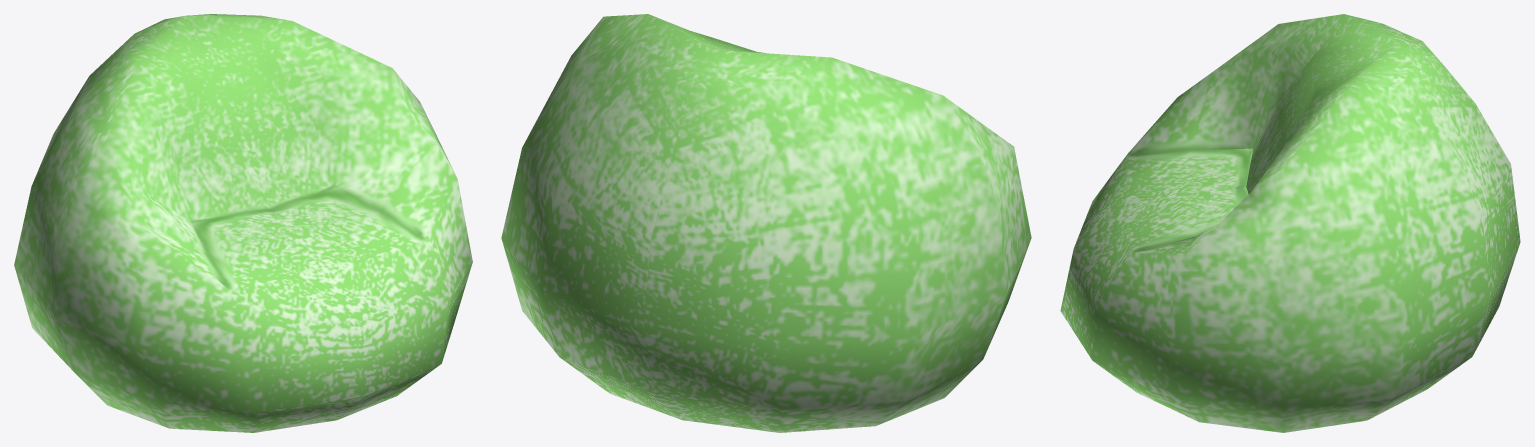
File: Puff.fbx
The picture shows the model from 3 angles, left to right: view 1: azimuth 30°, elevation 25°; view 2: azimuth 150°, elevation 25°; view 3: azimuth 270°, elevation 25°; orthographic projection. The views are drawn at different scales.
Parts seen in each view (by area): view 1: PuffRoom; view 2: PuffRoom; view 3: PuffRoom.
Boxes of the visible parts, left/top/right/bottom form: PuffRoom: left=14, top=14, right=472, bottom=432; PuffRoom: left=501, top=14, right=1031, bottom=432; PuffRoom: left=1060, top=14, right=1520, bottom=432.
Bounding box in the file's own units: 239 × 191 × 238.
